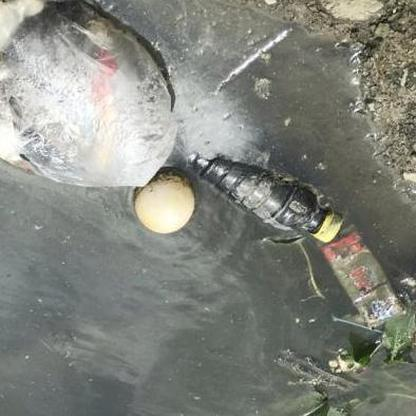plastic bottle: (187, 138, 344, 243)
